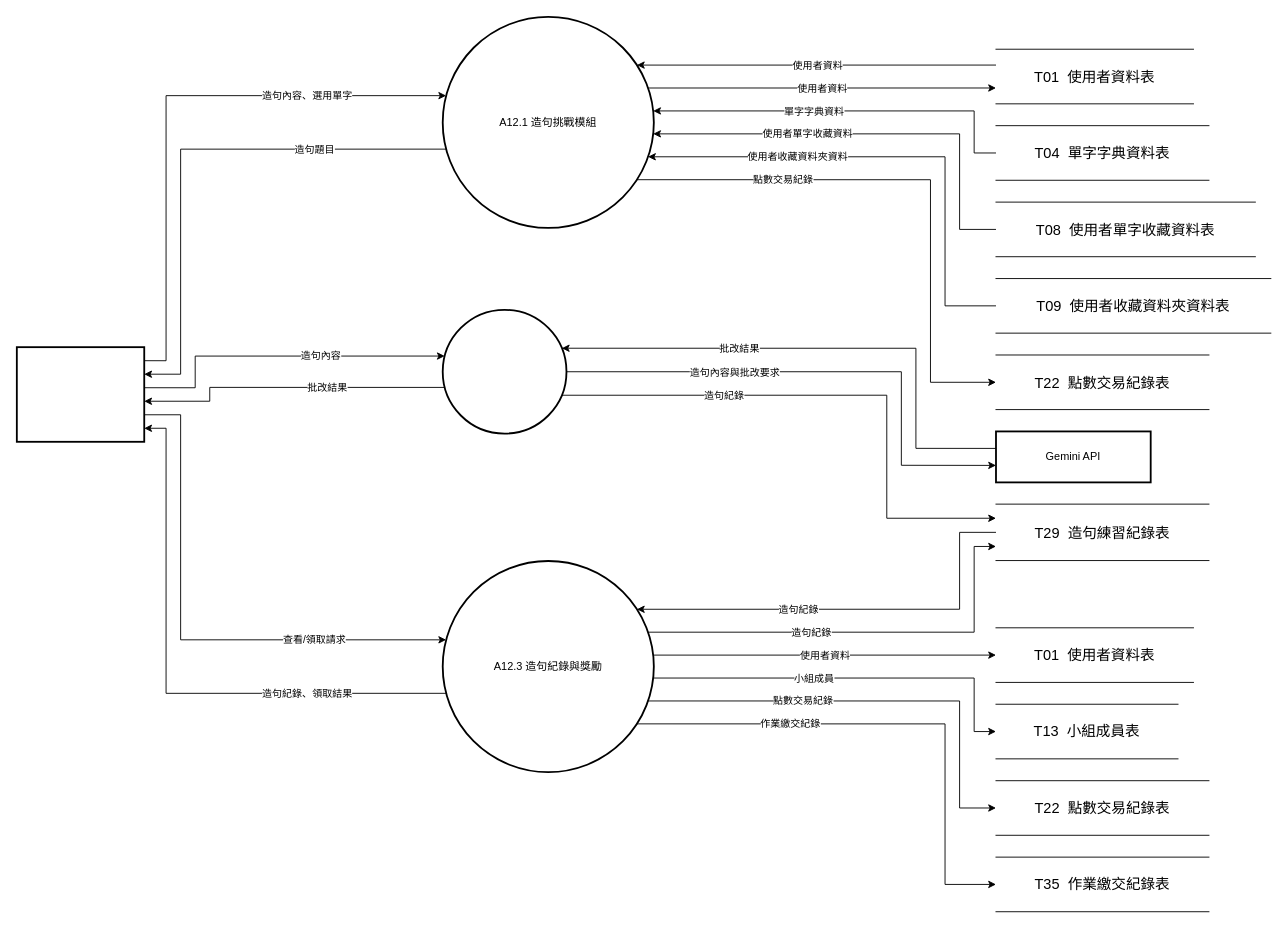
Some shapes in this 1287 by 927 pixel diagram are drawn without their labels. Here are the shapes that lost their labels. From the top down, the centre of each, then its label:
At (x=504, y=371): "A12.2 AI批改與修正".
At (x=80, y=394): "一般使用者".
